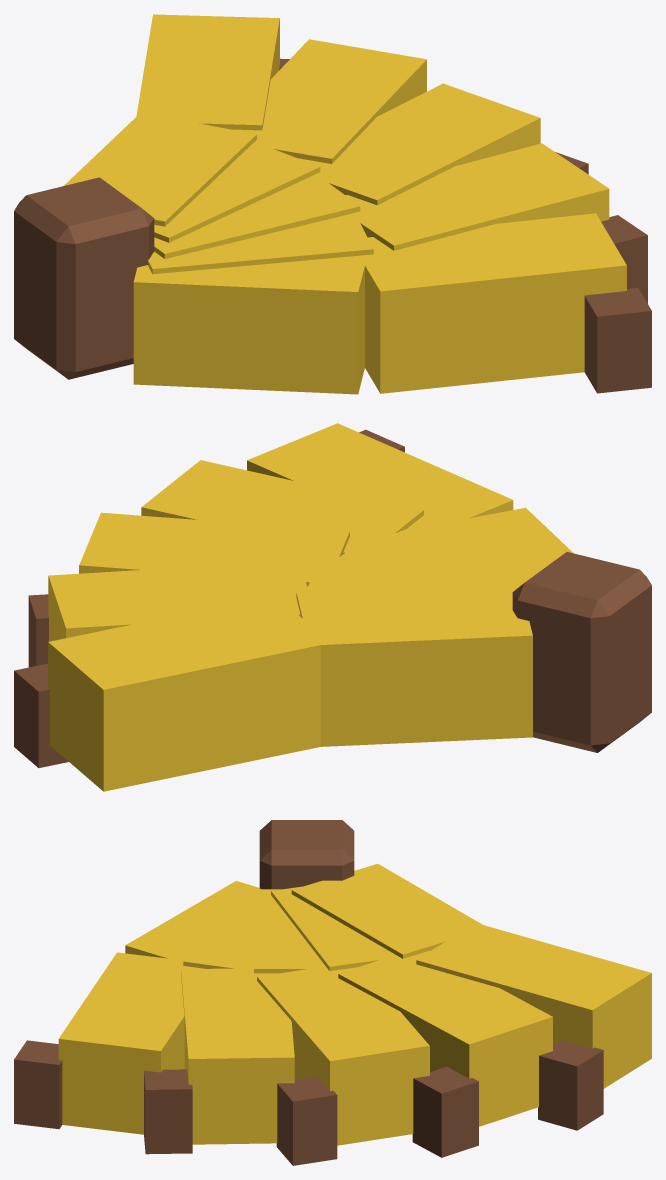
File: banana_bunch.glb
The picture shows the model from 3 angles, top to bottom: view 1: azimuth 30°, elevation 25°; view 2: azimuth 150°, elevation 25°; view 3: azimuth 270°, elevation 25°; orthographic projection. The views are drawn at different scales.
Visible parts, largest first — view 1: banana_bunch; view 2: banana_bunch; view 3: banana_bunch.
Part boxes in pixels (x1,y1,x2,y2): banana_bunch: [14, 14, 651, 394]; banana_bunch: [14, 423, 651, 791]; banana_bunch: [14, 820, 651, 1165].
Bounding box in the file's own units: 0.2228 × 0.06 × 0.27.
Materials: 1 (1 with a texture image).
